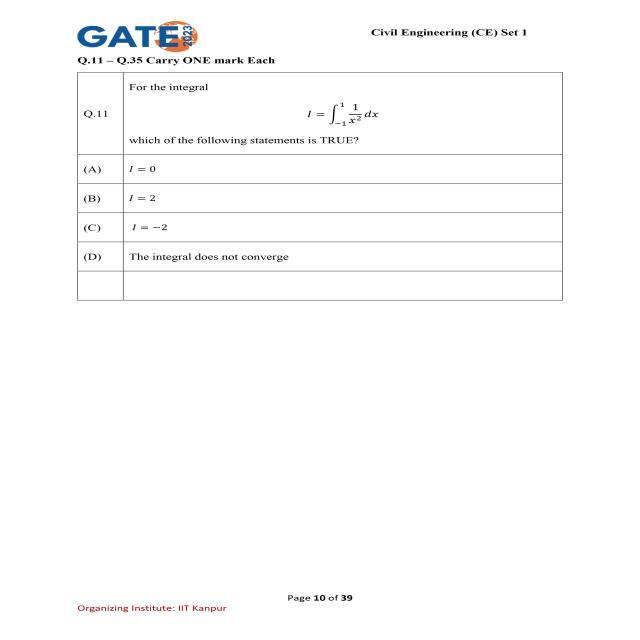Answer_Block: (57, 160, 596, 332)
Question_Answer_Block: (57, 72, 596, 332)
Question_Block: (57, 73, 596, 159)
Question_Paper_Area: (57, 52, 596, 332)
